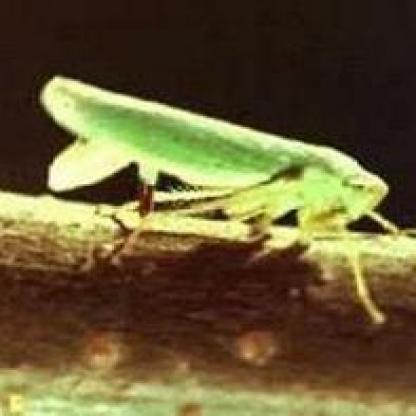Green-Leafhopper: (38, 78, 411, 307)
